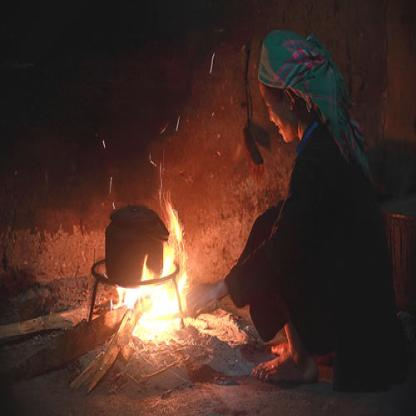fire: (104, 206, 194, 357)
